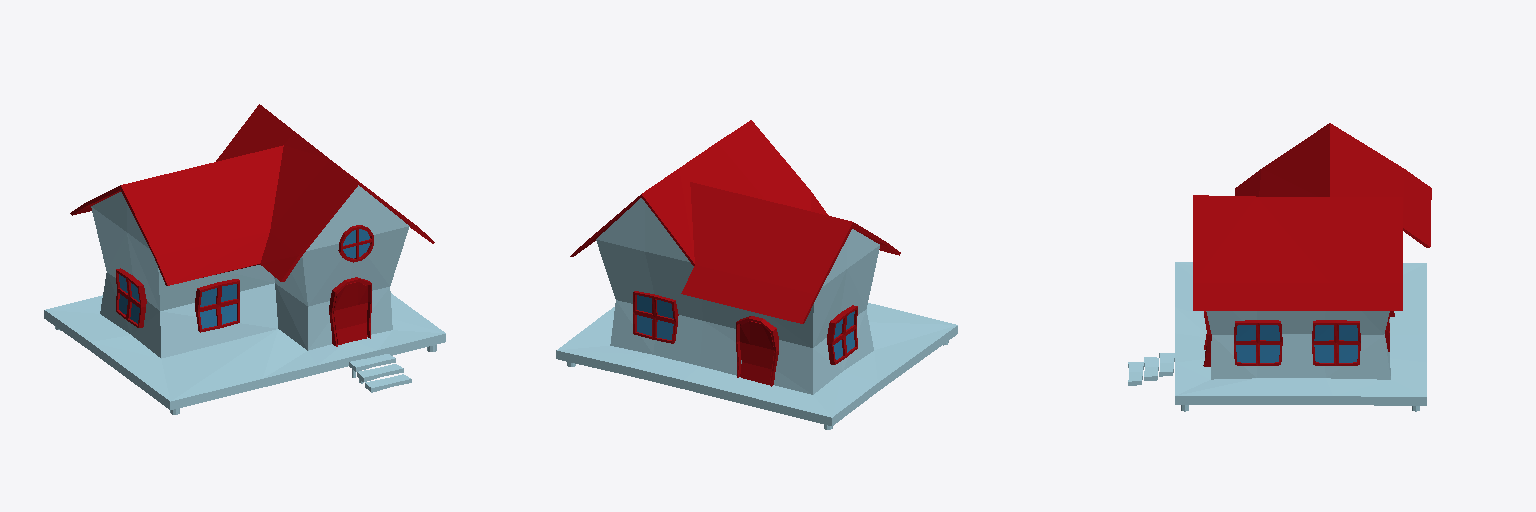
Rendered from Casa.obj.
3 renders of one model, left to right at view 1: azimuth 30°, elevation 25°; view 2: azimuth 150°, elevation 25°; view 3: azimuth 270°, elevation 25°, orthographic.
Visible parts, largest first — view 1: Casa; view 2: Casa; view 3: Casa.
Part boxes in pixels (x1,y1,x2,y2): Casa: (44, 104, 445, 414); Casa: (556, 120, 957, 429); Casa: (1128, 123, 1431, 411).
Size of the model in its own units: 137 by 86.88 by 131.